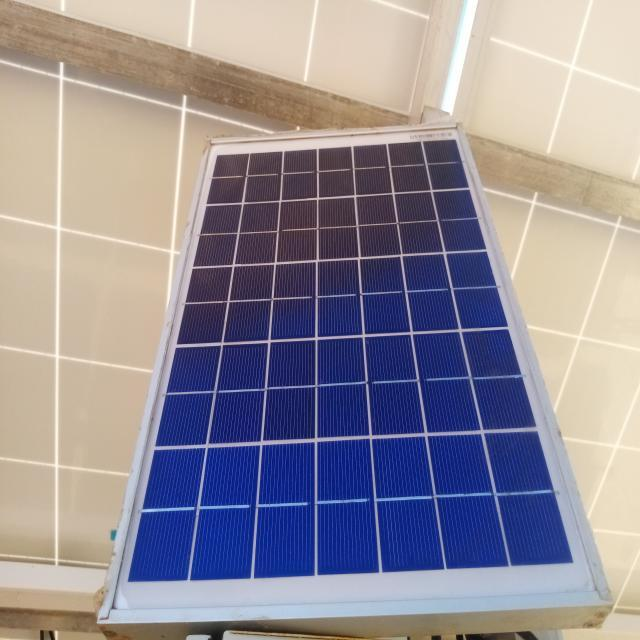no faulty: (103, 125, 607, 615)
